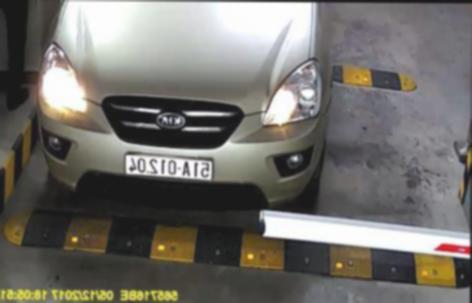License_Plate: (125, 150, 216, 182)
